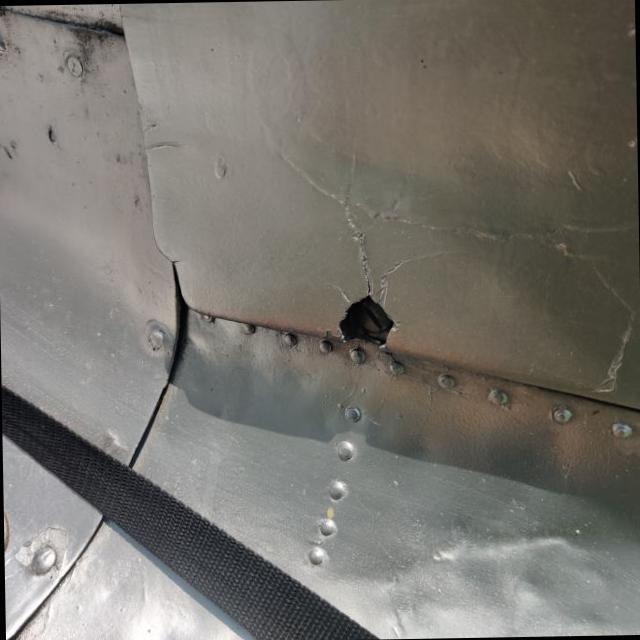Rupture: (258, 137, 458, 370)
